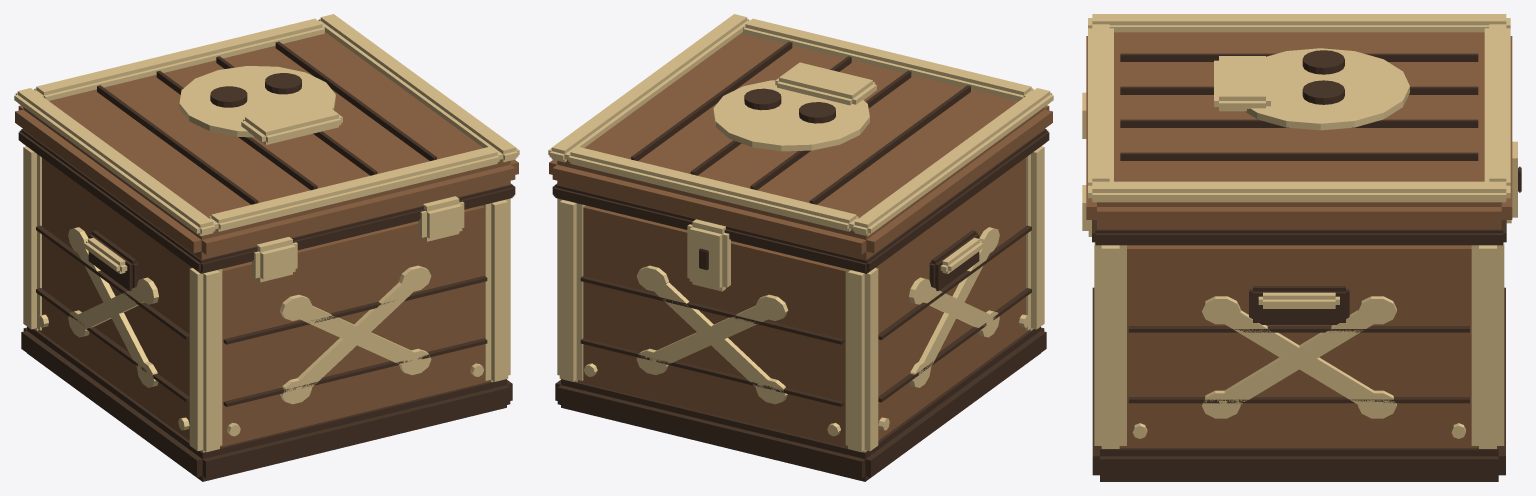
File: crate_ossada.fbx
The picture shows the model from 3 angles, left to right: view 1: azimuth 30°, elevation 25°; view 2: azimuth 150°, elevation 25°; view 3: azimuth 270°, elevation 25°; orthographic projection. The views are drawn at different scales.
Parts seen in each view (by area): view 1: crate_ossada_caixa; view 2: crate_ossada_caixa; view 3: crate_ossada_caixa.
Boxes of the visible parts, box(x1,y1,x2,y2) form: crate_ossada_caixa: box(14, 14, 519, 481); crate_ossada_caixa: box(548, 14, 1053, 481); crate_ossada_caixa: box(1082, 14, 1521, 481).
Bounding box in the file's own units: 2.68 × 2.2 × 2.7.
1 material, 1 textured.
